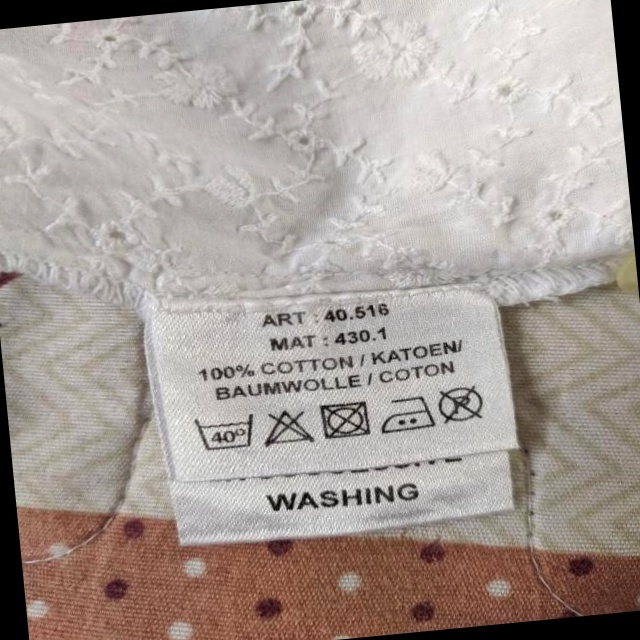40C: (194, 409, 258, 454)
DN_bleach: (258, 403, 314, 450)
DN_dry_clean: (436, 383, 487, 426)
DN_tumble_dry: (317, 399, 372, 444)
iron_medium: (378, 394, 436, 436)
